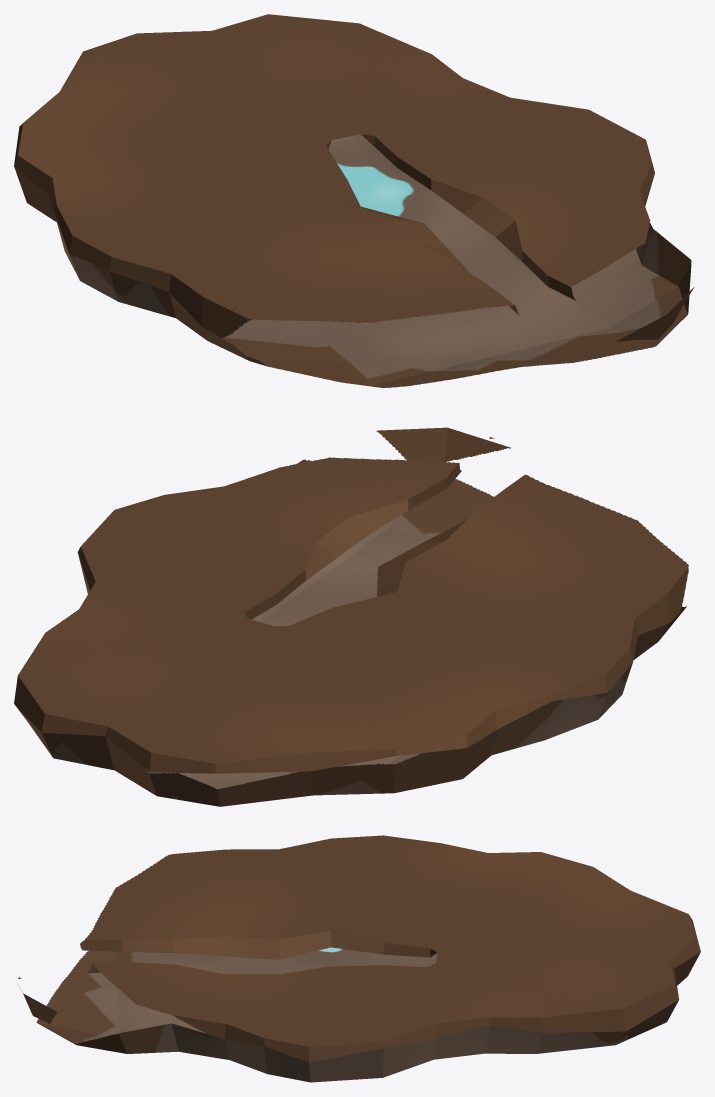
File: ground_fixedlake.fbx
The picture shows the model from 3 angles, top to bottom: view 1: azimuth 30°, elevation 25°; view 2: azimuth 150°, elevation 25°; view 3: azimuth 270°, elevation 25°; orthographic projection. The views are drawn at different scales.
Visible parts, largest first — view 1: ground; view 2: ground; view 3: ground.
Boxes of the visible parts, x1=… form: ground: x1=14, y1=14, x2=694, y2=387; ground: x1=14, y1=427, x2=688, y2=806; ground: x1=18, y1=835, x2=700, y2=1082.
Bounding box in the file's own units: 121 × 14.18 × 164.
